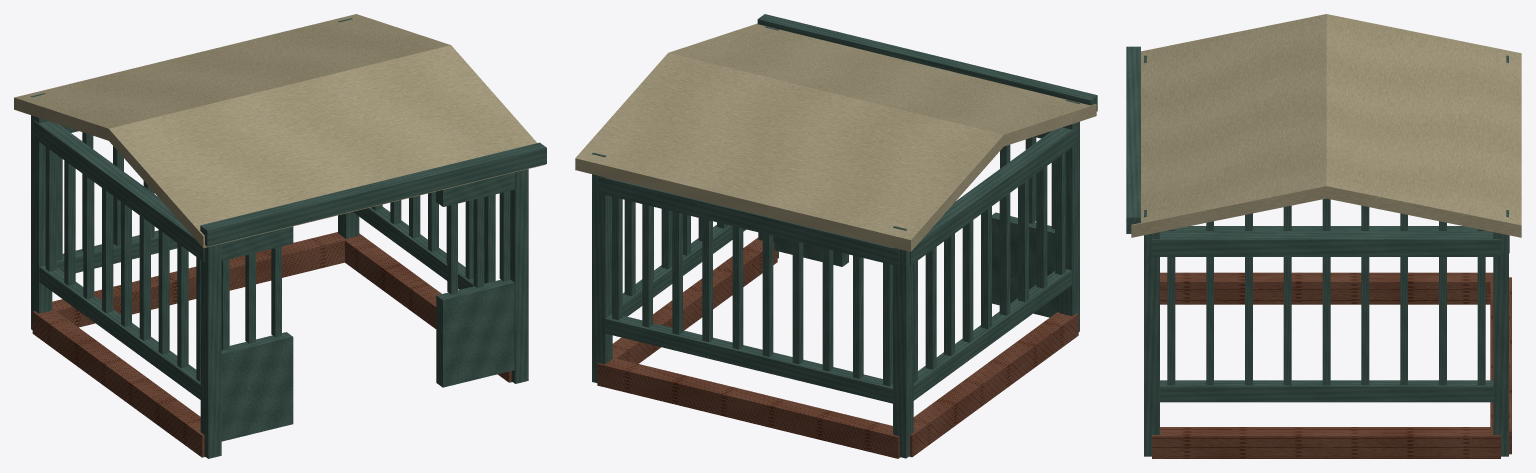
3 views of the same model, side by side, from view 1: azimuth 30°, elevation 25°; view 2: azimuth 150°, elevation 25°; view 3: azimuth 270°, elevation 25° (orthographic). The views are drawn at different scales.
Parts seen in each view (by area): view 1: garrison_part_0001, garrison_part_0000; view 2: garrison_part_0001, garrison_part_0000; view 3: garrison_part_0001, garrison_part_0000.
Part boxes in pixels (x1,y1,x2,y2): garrison_part_0001: (14,14,546,458); garrison_part_0000: (32,232,511,457); garrison_part_0001: (575,14,1097,458); garrison_part_0000: (597,237,1078,458); garrison_part_0001: (1126,14,1521,456); garrison_part_0000: (1152,272,1511,458).
Size of the model in its own units: 357 by 268 by 347.
